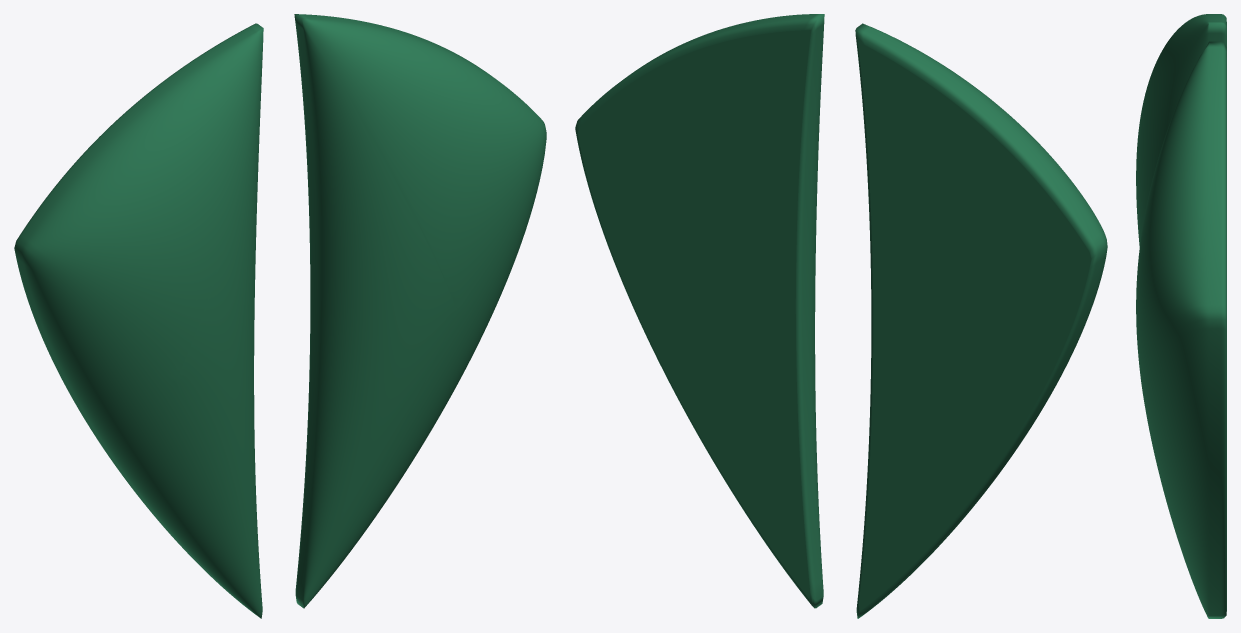
Rendered from matched-pair-v1.glb.
3 views of the same model, side by side, from view 1: azimuth 30°, elevation 25°; view 2: azimuth 150°, elevation 25°; view 3: azimuth 270°, elevation 25° (orthographic). The views are drawn at different scales.
Visible parts, largest first — view 1: Wing Cabochon 28x12x4mm.001, Wing Cabochon 28x12x4mm; view 2: Wing Cabochon 28x12x4mm.001, Wing Cabochon 28x12x4mm; view 3: Wing Cabochon 28x12x4mm.001, Wing Cabochon 28x12x4mm.
Boxes of the visible parts, box(x1,y1,x2,y2) form: Wing Cabochon 28x12x4mm.001: box(294, 14, 546, 608); Wing Cabochon 28x12x4mm: box(14, 23, 263, 618); Wing Cabochon 28x12x4mm.001: box(575, 14, 824, 608); Wing Cabochon 28x12x4mm: box(855, 23, 1107, 618); Wing Cabochon 28x12x4mm.001: box(1136, 41, 1226, 618); Wing Cabochon 28x12x4mm: box(1136, 14, 1226, 246).
Size of the model in its own units: 0.0258 by 0.0279 by 0.00398.
